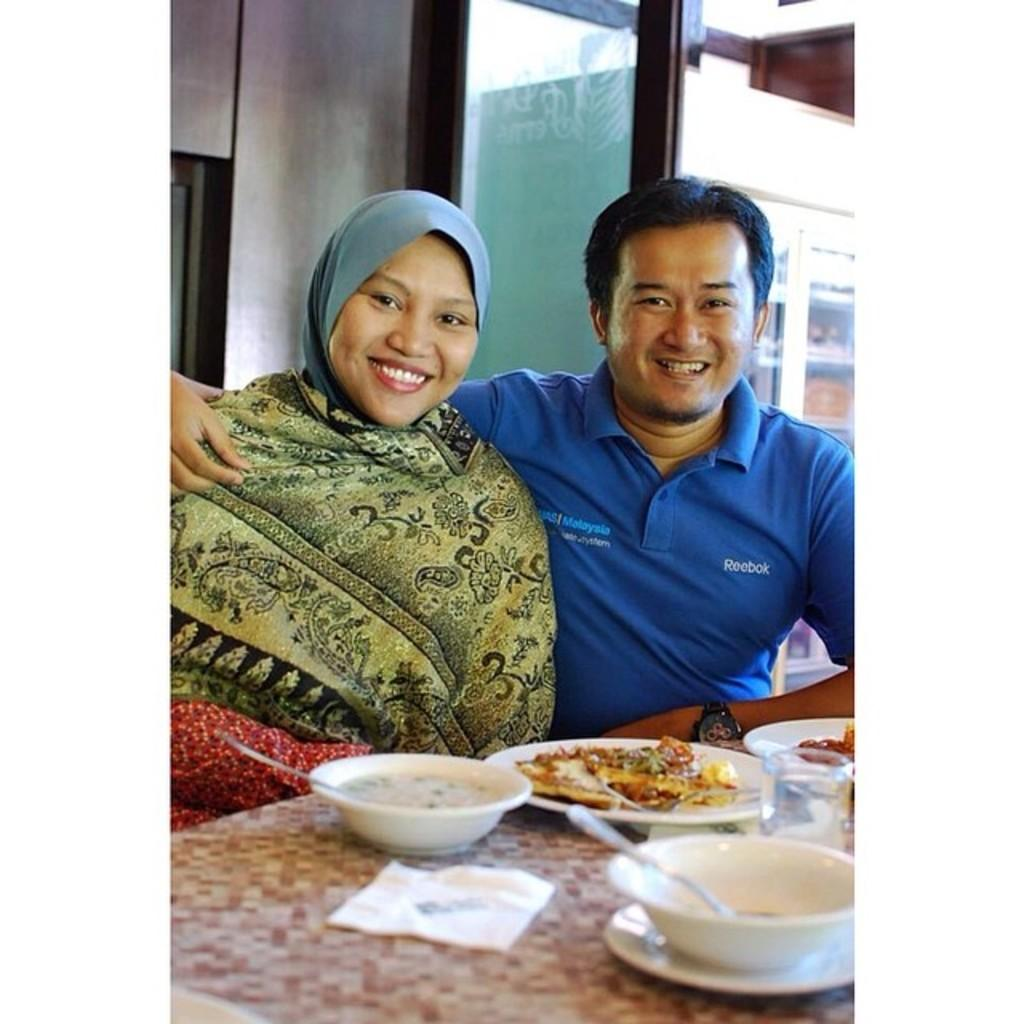Sem Máscara: (607, 225, 753, 418), (331, 233, 474, 430)
